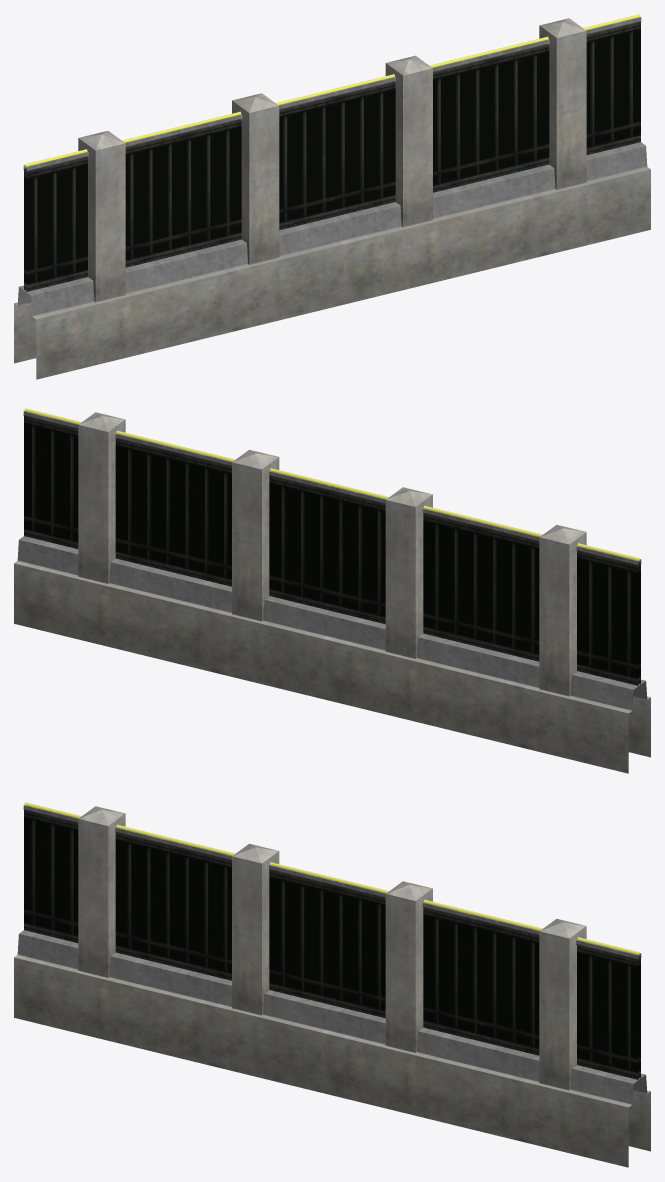
File: thm_corl_imprv_wall_4x16_s02_l1.fbx
3 views of the same model, one above another, from view 1: azimuth 30°, elevation 25°; view 2: azimuth 150°, elevation 25°; view 3: azimuth 330°, elevation 25° (orthographic).
Visible parts, largest first — view 1: mesh_node; view 2: mesh_node; view 3: mesh_node.
Boxes of the visible parts, left/top/right/bottom form: mesh_node: left=14, top=14, right=650, bottom=379; mesh_node: left=14, top=408, right=650, bottom=773; mesh_node: left=14, top=802, right=650, bottom=1167.
Bounding box in the file's own units: 16 × 5.43 × 1.
